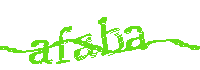a: (73, 34, 98, 61), (29, 39, 52, 65), (124, 25, 146, 52)
b: (98, 16, 124, 56)
f: (53, 25, 74, 65)
